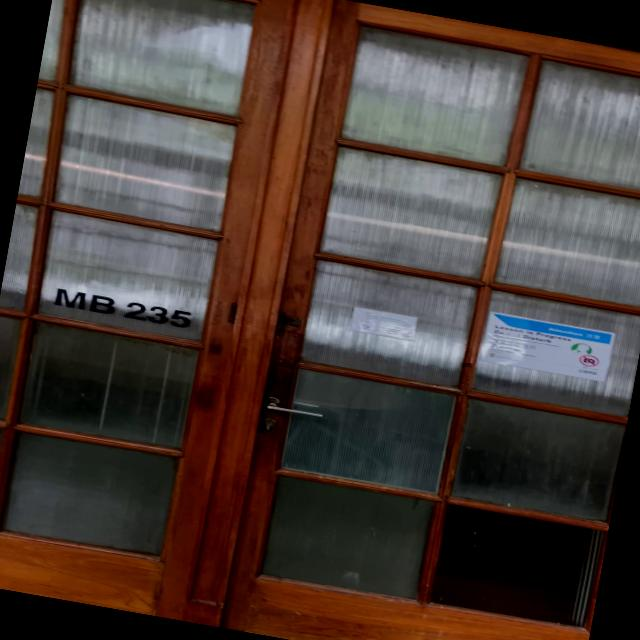room235Window: (48, 284, 197, 332)
